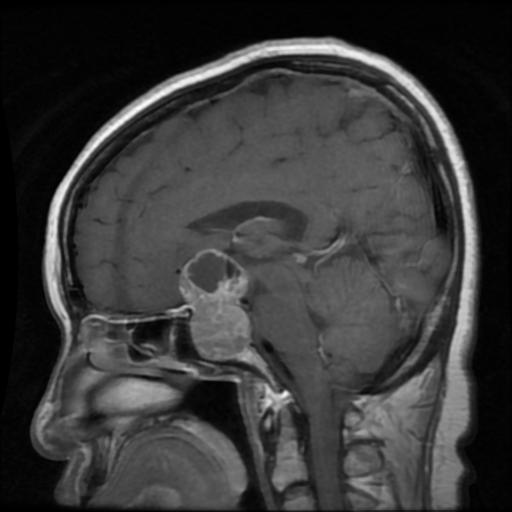Pituirity_tumour: (179, 247, 249, 359)
